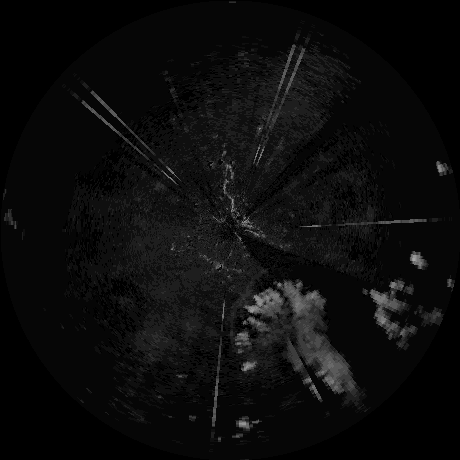frontgust: (227, 269, 264, 335)
